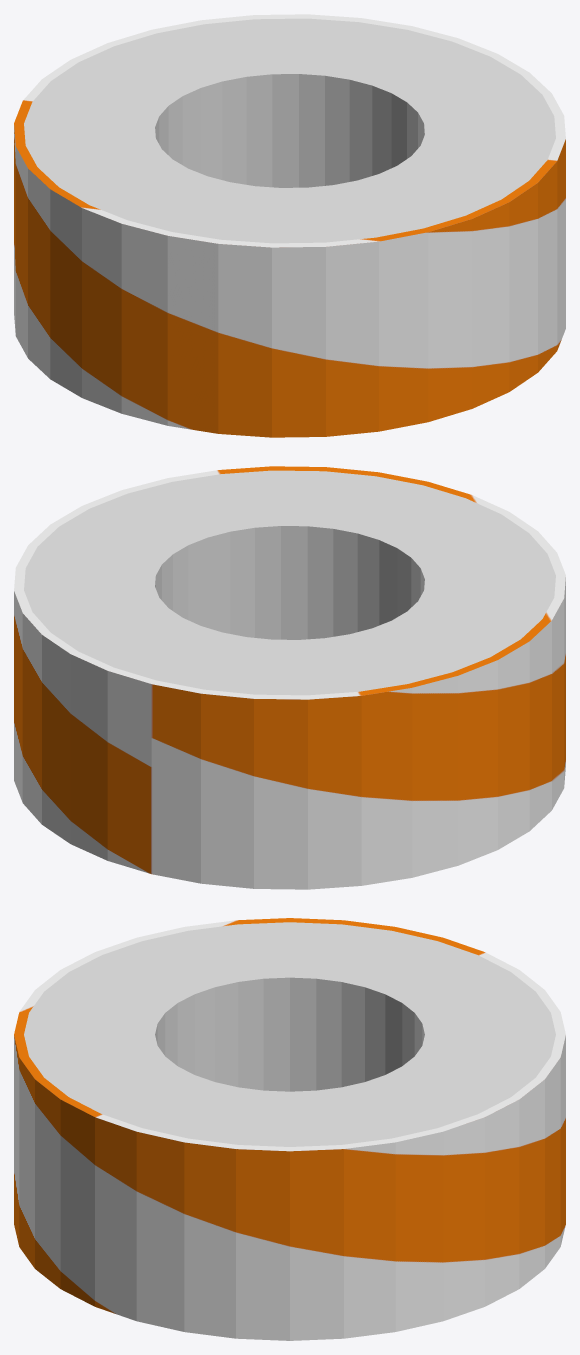
The model's file is police_tape.fbx.
The picture shows the model from 3 angles, top to bottom: view 1: azimuth 30°, elevation 25°; view 2: azimuth 150°, elevation 25°; view 3: azimuth 270°, elevation 25°; orthographic projection.
Parts seen in each view (by area): view 1: tape; view 2: tape; view 3: tape.
Boxes of the visible parts, x1,y1,x2,y2 form: tape: (14, 14, 565, 437); tape: (14, 466, 565, 889); tape: (14, 918, 565, 1340).
Bounding box in the file's own units: 14.97 × 5.68 × 14.97.
